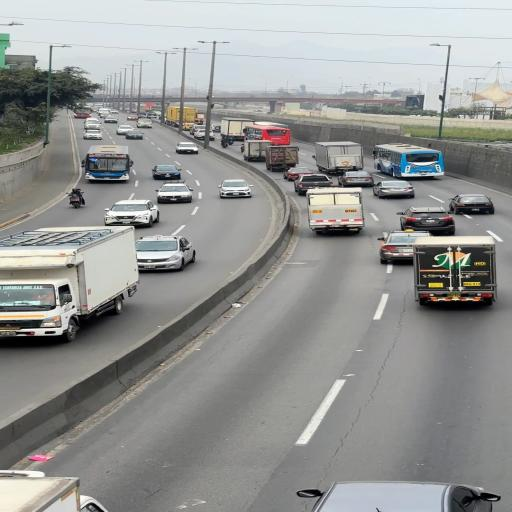auto: (294, 480, 496, 511), (135, 235, 195, 271), (377, 230, 435, 261), (103, 198, 161, 228), (399, 205, 454, 232), (448, 194, 495, 214), (292, 174, 332, 195), (372, 180, 415, 198), (217, 178, 252, 199), (155, 184, 193, 203), (340, 171, 374, 187), (151, 165, 181, 180), (283, 167, 314, 181), (175, 142, 199, 154), (124, 130, 144, 140), (83, 130, 102, 139), (137, 119, 154, 128), (84, 122, 100, 131), (204, 130, 217, 140), (84, 118, 99, 125), (116, 124, 132, 130), (210, 123, 221, 131), (134, 112, 144, 118)
bus: (375, 142, 446, 178), (83, 144, 133, 183), (243, 121, 289, 146), (80, 102, 94, 110), (98, 108, 111, 116), (150, 105, 162, 113), (93, 102, 103, 108)
camion: (0, 229, 138, 335), (411, 238, 498, 303), (304, 188, 364, 234), (311, 140, 362, 172), (264, 145, 299, 170), (220, 117, 254, 141), (242, 139, 274, 163), (164, 106, 197, 128), (73, 108, 92, 118)
moto: (66, 189, 84, 208)
